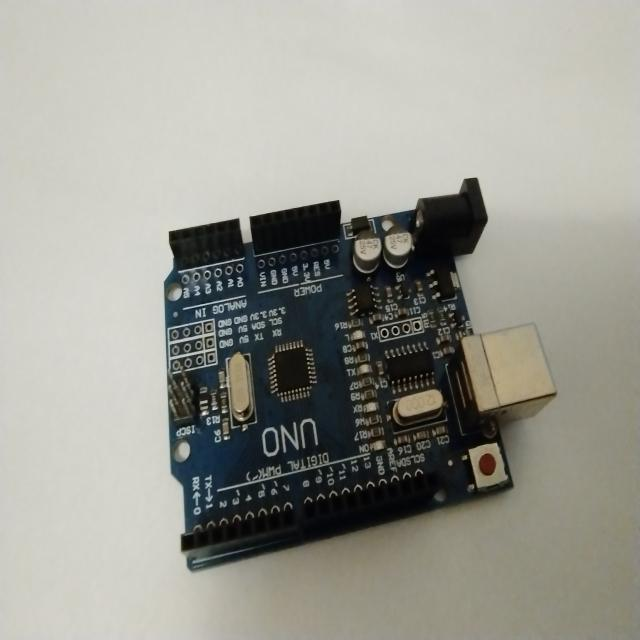arduino: (154, 211, 536, 557)
